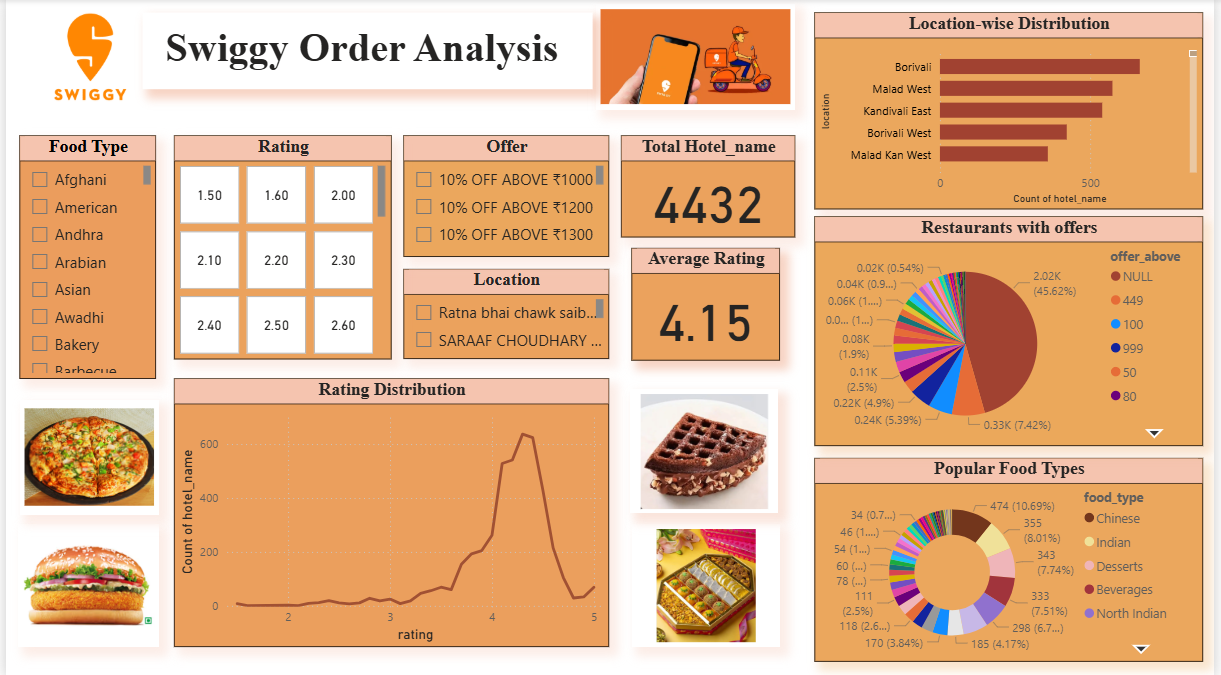

The page's visual inventory and layout, read from the dashboard file:
{"tool":"powerbi","page":{"name":"Page 1","canvas":[1280,720],"ordinal":0},"visuals":[{"type":"card","title":"Total Hotel_name","fields":{"Values":["swiggy_cleaned csv.hotel_name"]},"box":[652.2,144.7,184.5,108.2],"z":0},{"type":"slicer","title":"Food Type","fields":{"Values":["swiggy_cleaned csv.food_type"]},"box":[14.3,144.7,144.7,257.7],"z":1000},{"type":"donutChart","title":"Popular Food Types","fields":{"Category":["swiggy_cleaned csv.food_type"],"Y":["swiggy_cleaned csv.hotel_name"]},"box":[857.3,486.7,412,216.3],"z":2000},{"type":"clusteredBarChart","title":"Location-wise Distribution","fields":{"Category":["swiggy_cleaned csv.location"],"Y":["swiggy_cleaned csv.hotel_name"]},"box":[857.3,14.3,412,208.4],"z":3000},{"type":"slicer","title":"Location","fields":{"Values":["swiggy_cleaned csv.location"]},"box":[421.5,286.3,217.9,95.4],"z":4000},{"type":"pieChart","title":"Restaurants with offers","fields":{"Category":["swiggy_cleaned csv.offer_above"],"Y":["swiggy_cleaned csv.hotel_name"]},"box":[857.3,230.6,412,243.4],"z":5000},{"type":"slicer","title":"Offer","fields":{"Values":["swiggy_scrap_uncleaned csv.offer"]},"box":[421.5,144.7,217.9,128.8],"z":6000},{"type":"advancedSlicerVisual","title":"Rating","fields":{"Values":["swiggy_cleaned csv.rating"]},"box":[178.1,144.7,230.6,237],"z":7000},{"type":"lineChart","title":"Rating Distribution","fields":{"Category":["swiggy_scrap_uncleaned csv.rating"],"Y":["swiggy_scrap_uncleaned csv.hotel_name"]},"box":[178.1,402.4,461.3,284.7],"z":8000},{"type":"card","title":"Average Rating","fields":{"Values":["swiggy_cleaned csv.rating"]},"box":[663.3,264,157.5,119.3],"z":9000},{"type":"image","box":[0,4.8,178.1,112.9],"z":10000},{"type":"image","box":[625.1,4.8,211.6,112.9],"z":11000},{"type":"image","box":[14.3,424.7,147.9,122.5],"z":12000},{"type":"image","box":[663.3,556.7,157.5,130.4],"z":13000},{"type":"image","box":[661.7,413.6,157.5,132],"z":14000},{"type":"image","box":[12.7,556.7,149.5,130.4],"z":15000},{"type":"textbox","box":[144.7,14.3,477.2,81.1],"z":16000}]}

Visuals, with their boxes in screenshot pixels (x1, y1, x2, y2), scaled from the page's 1280x720 canvas onto the 1221x675 screenshot:
"Total Hotel_name" card: 622:136:798:237
"Food Type" slicer: 14:136:152:377
"Popular Food Types" donutChart: 818:456:1211:659
"Location-wise Distribution" clusteredBarChart: 818:13:1211:209
"Location" slicer: 402:268:610:358
"Restaurants with offers" pieChart: 818:216:1211:444
"Offer" slicer: 402:136:610:256
"Rating" advancedSlicerVisual: 170:136:390:358
"Rating Distribution" lineChart: 170:377:610:644
"Average Rating" card: 633:248:783:359
image: 0:4:170:110
image: 596:4:798:110
image: 14:398:155:513
image: 633:522:783:644
image: 631:388:781:512
image: 12:522:155:644
textbox: 138:13:593:89
